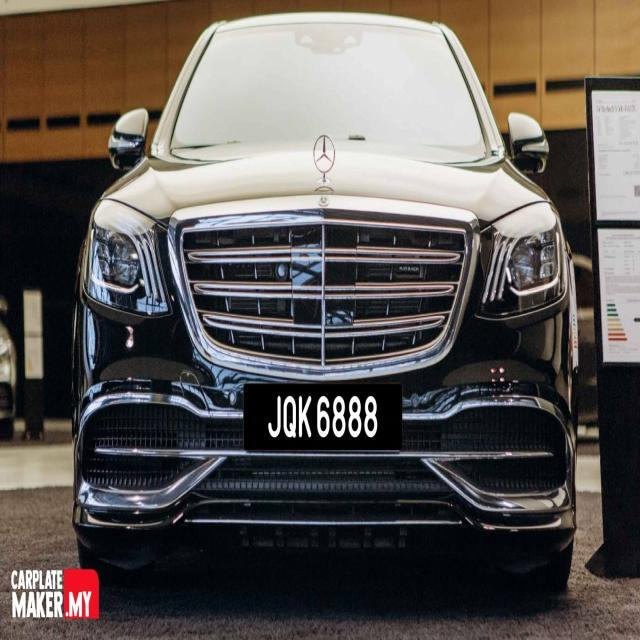car-plate: (245, 381, 402, 447)
